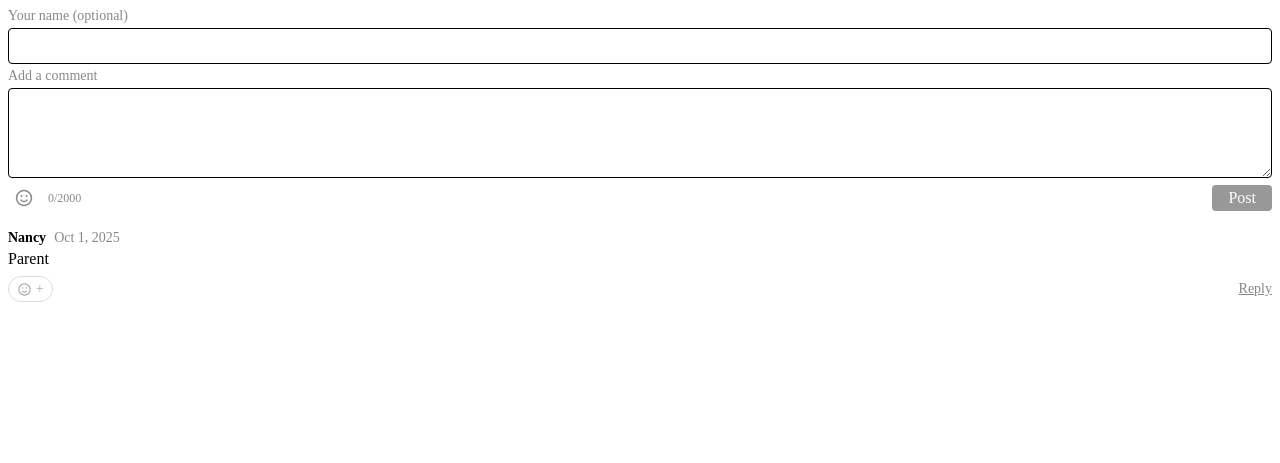
Test: CommentThread › replies inline under the parent
Click the button "Reply".
click(1255, 289)  # box [1238,281,1272,297]
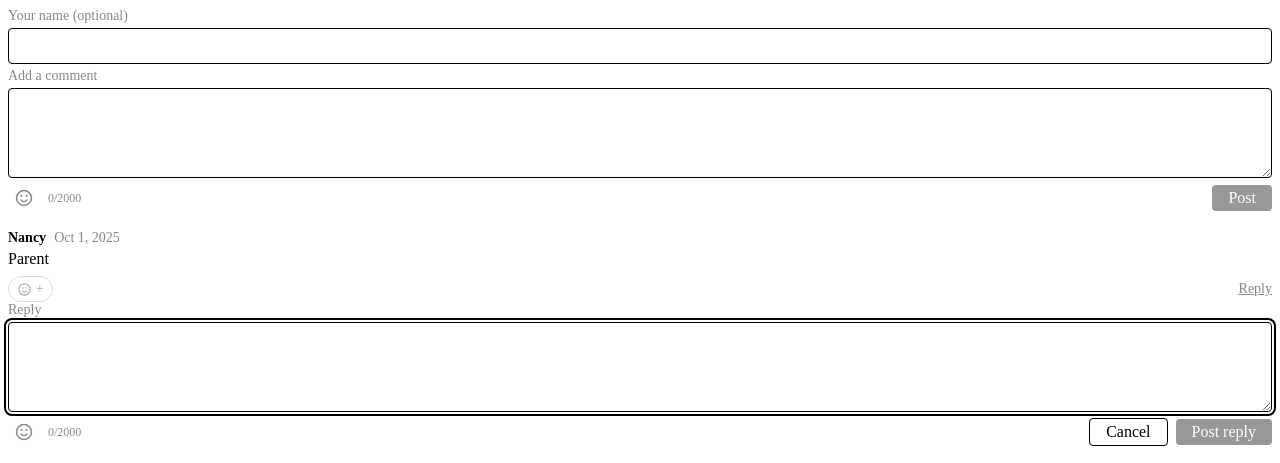
Type "Child" into the text box labelled "Reply".
click(640, 367); type("Child")  # box [8,322,1272,412]
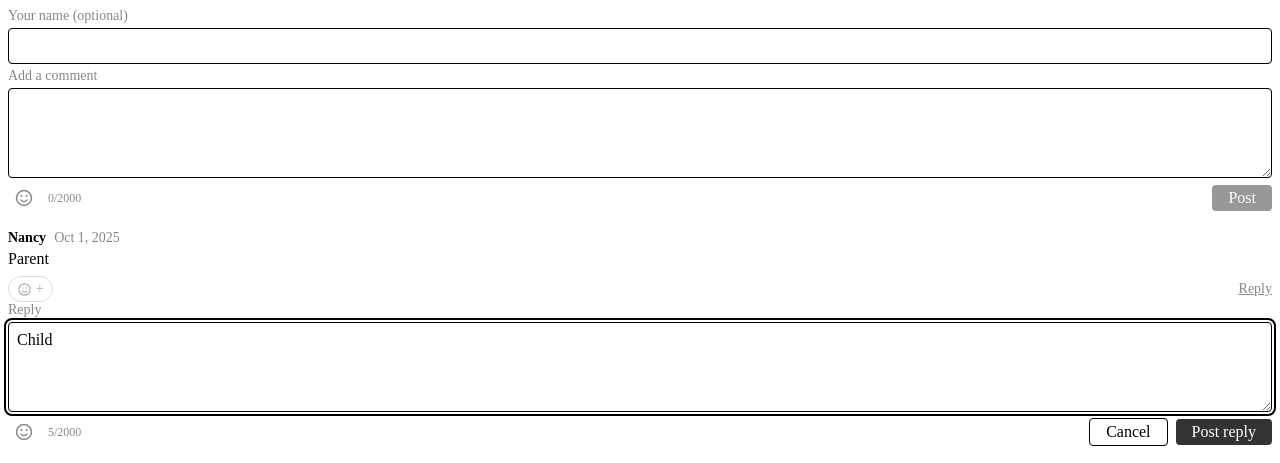
Click the button "Post reply".
click(1224, 432)  # box [1176,419,1272,445]
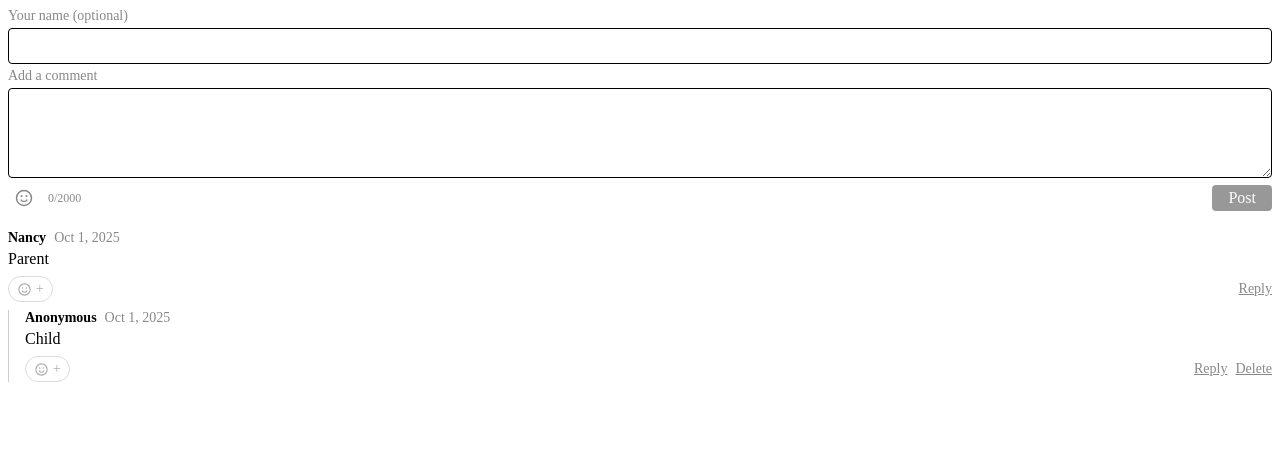
Expected: the text "Child" is shown, [25,330,61,347]
